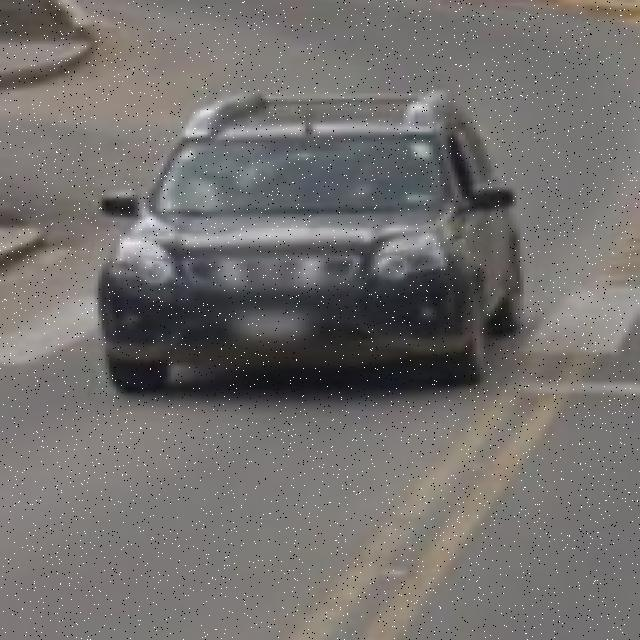cars: (90, 95, 516, 386)
